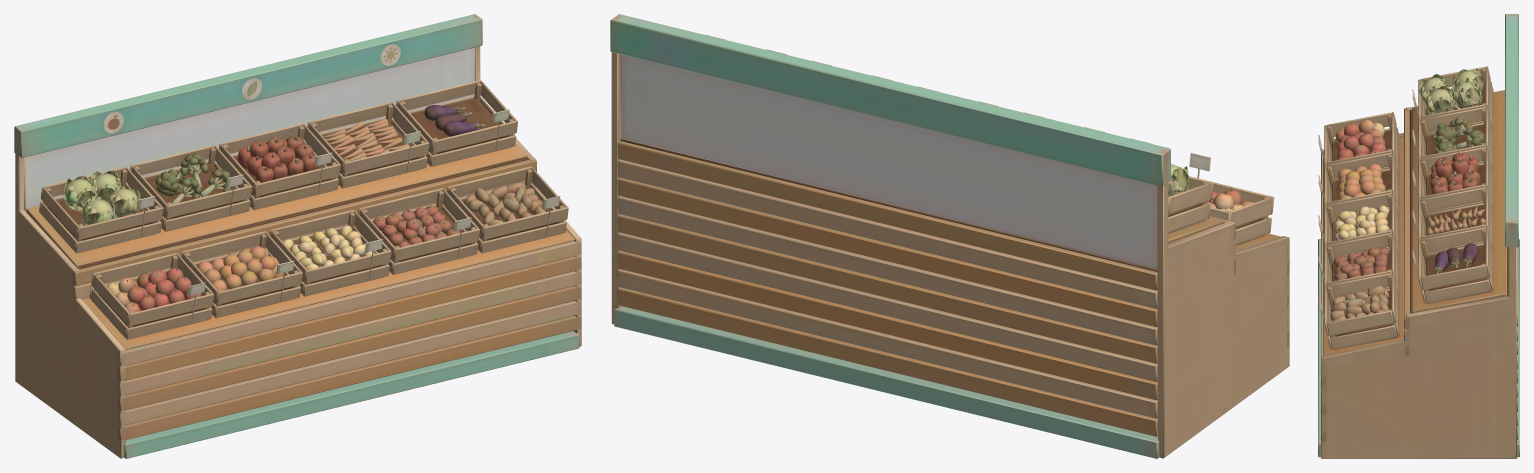
The model's file is produce-display.glb.
3 renders of one model, left to right at view 1: azimuth 30°, elevation 25°; view 2: azimuth 150°, elevation 25°; view 3: azimuth 270°, elevation 25°, orthographic. The views are drawn at different scales.
Parts seen in each view (by area): view 1: produce-display_body; view 2: produce-display_body; view 3: produce-display_body.
Boxes of the visible parts, <box> form: produce-display_body: <box>14,14,581,458</box>; produce-display_body: <box>610,14,1289,458</box>; produce-display_body: <box>1318,14,1519,458</box>.
Size of the model in its own units: 2.5 by 1.32 by 1.02.
Materials: 1 (1 with a texture image).
